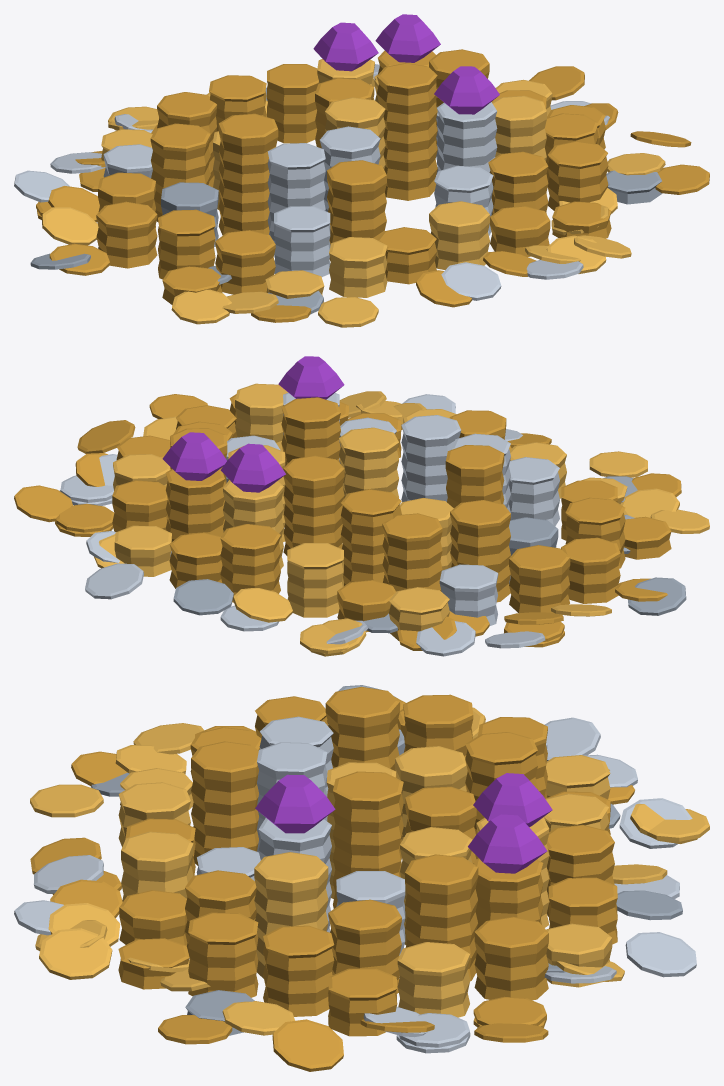
File: PileSmall.fbx
The picture shows the model from 3 angles, top to bottom: view 1: azimuth 30°, elevation 25°; view 2: azimuth 150°, elevation 25°; view 3: azimuth 270°, elevation 25°; orthographic projection. The views are drawn at different scales.
Parts seen in each view (by area): view 1: PileSmall; view 2: PileSmall; view 3: PileSmall.
Boxes of the visible parts, bbox=[...] form: PileSmall: bbox=[14, 14, 709, 327]; PileSmall: bbox=[14, 356, 709, 656]; PileSmall: bbox=[14, 685, 709, 1071].
Bounding box in the file's own units: 82.87 × 16.7 × 65.6.
